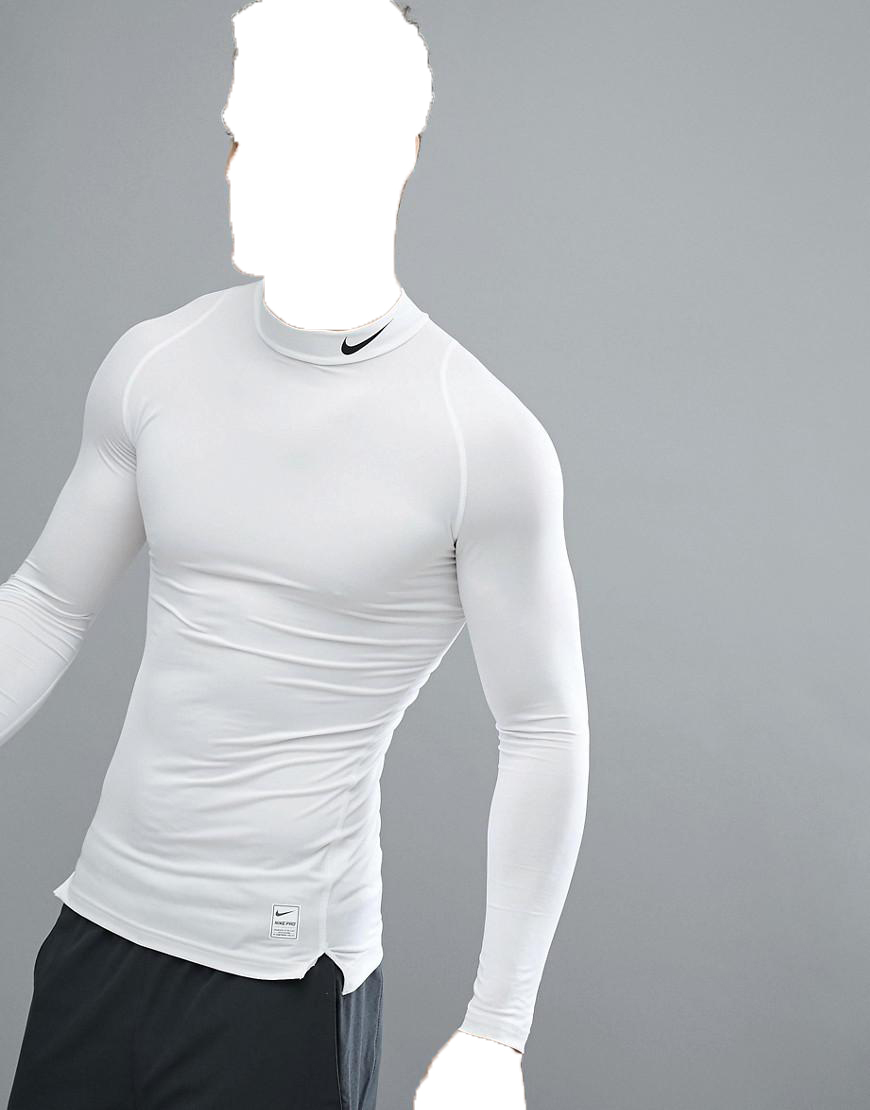teeshirt: (10, 283, 625, 1069)
